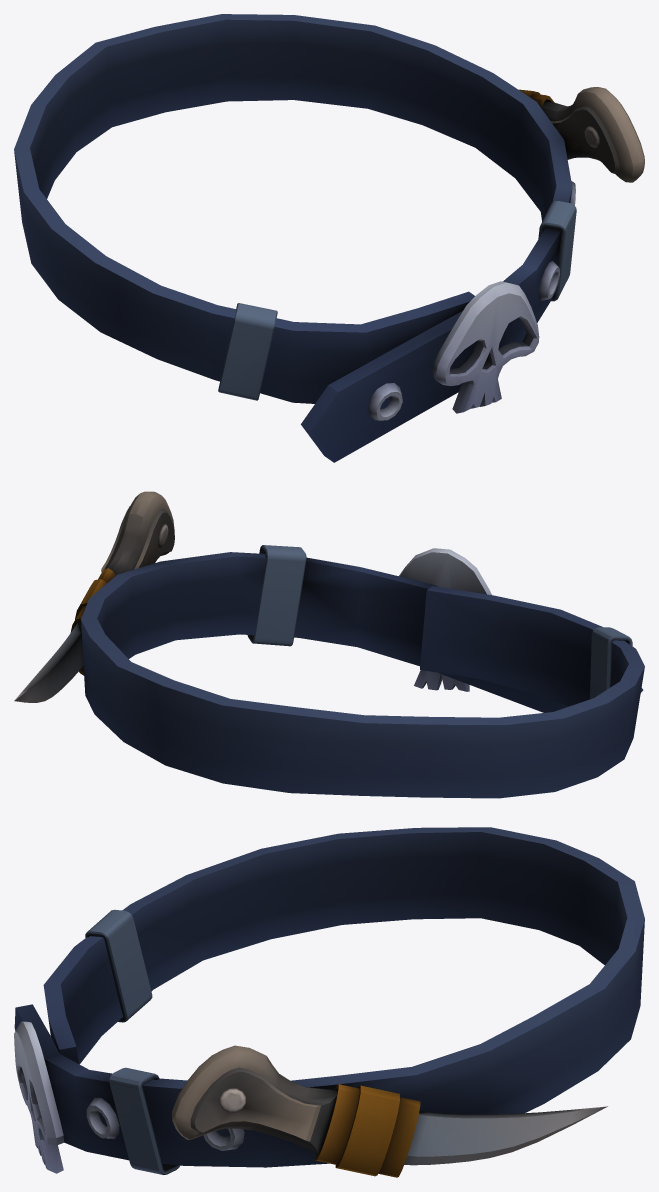
Rendered from Belt_Skull_Belt.gltf.
3 renders of one model, top to bottom at view 1: azimuth 30°, elevation 25°; view 2: azimuth 150°, elevation 25°; view 3: azimuth 270°, elevation 25°, orthographic. The views are drawn at different scales.
Parts seen in each view (by area): view 1: Belt_Skull_Belt; view 2: Belt_Skull_Belt; view 3: Belt_Skull_Belt.
Part boxes in pixels (x1,y1,x2,y2): Belt_Skull_Belt: (14,14,644,462); Belt_Skull_Belt: (14,491,644,798); Belt_Skull_Belt: (14,827,644,1177).
Bounding box in the file's own units: 0.8658 × 0.3408 × 0.819.
Materials: 2 (2 with a texture image).
